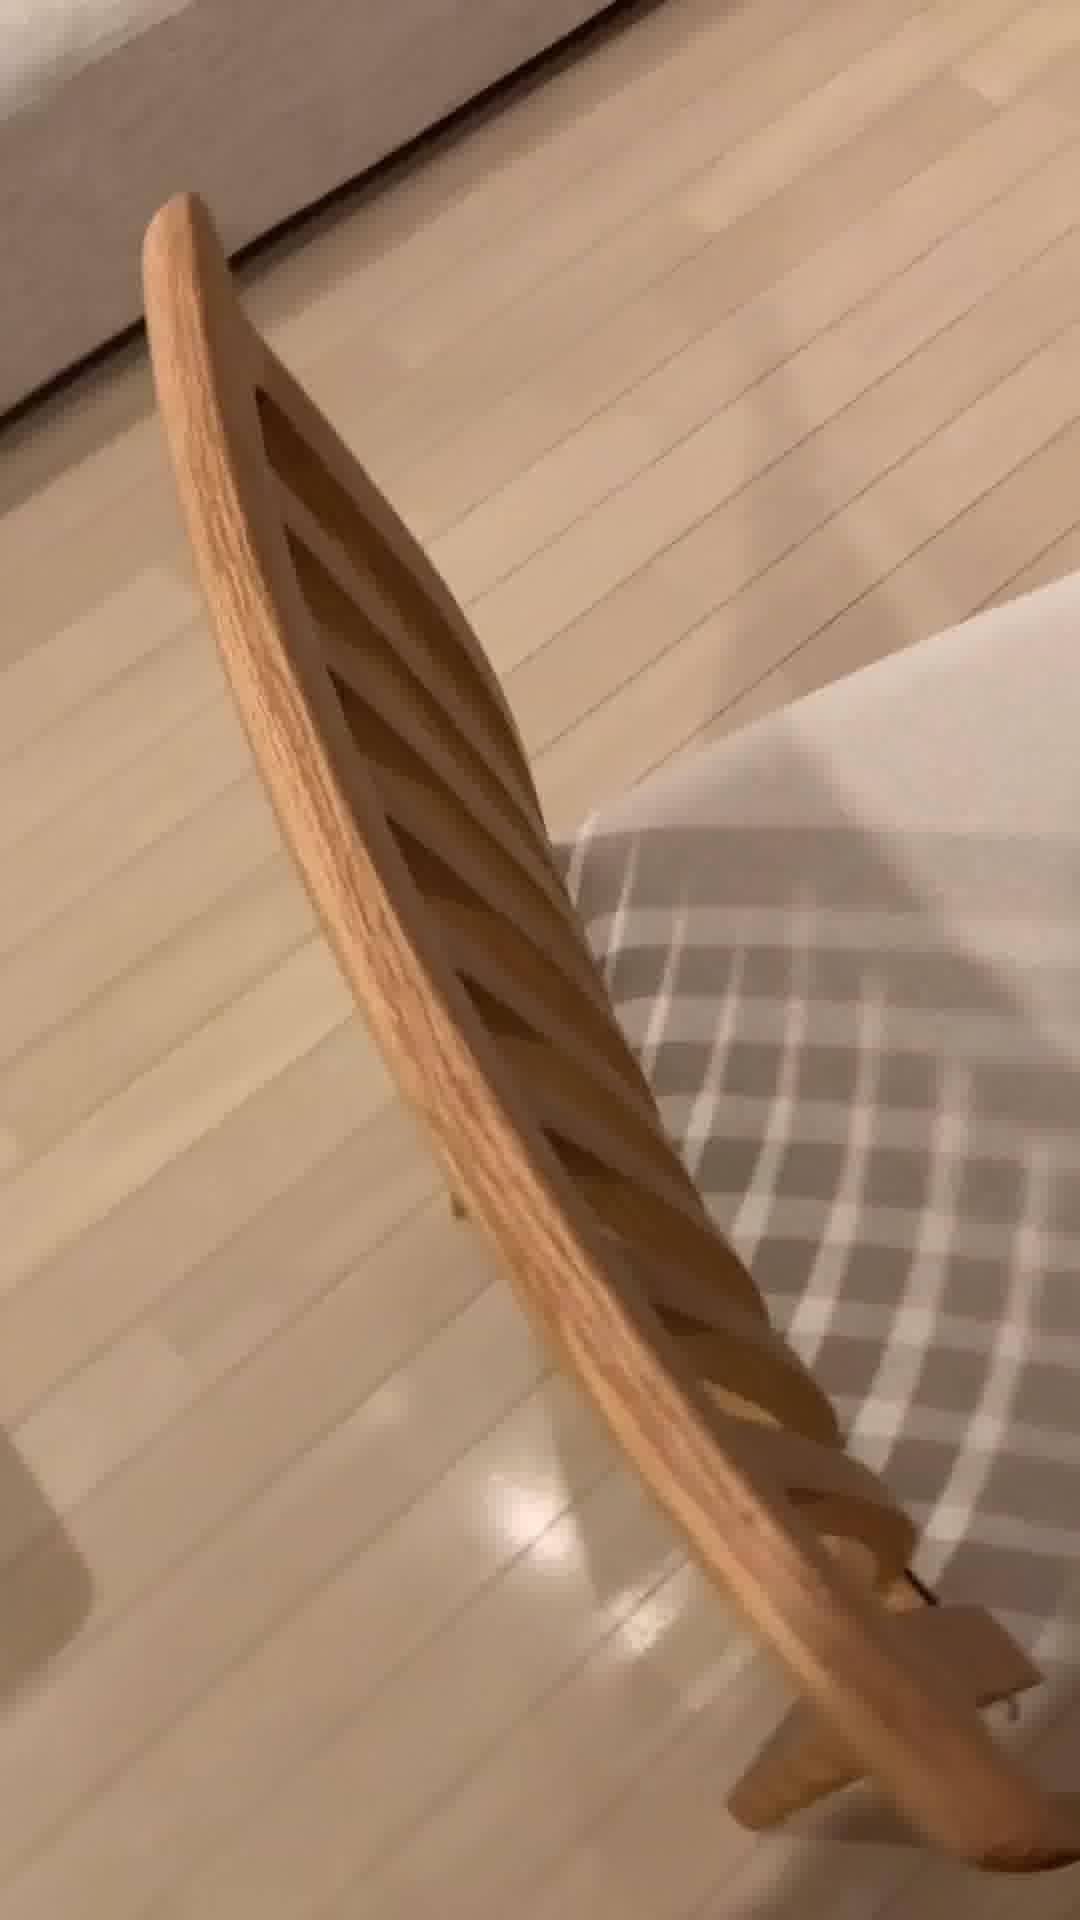takumikan-chair: (140, 190, 1080, 1873)
